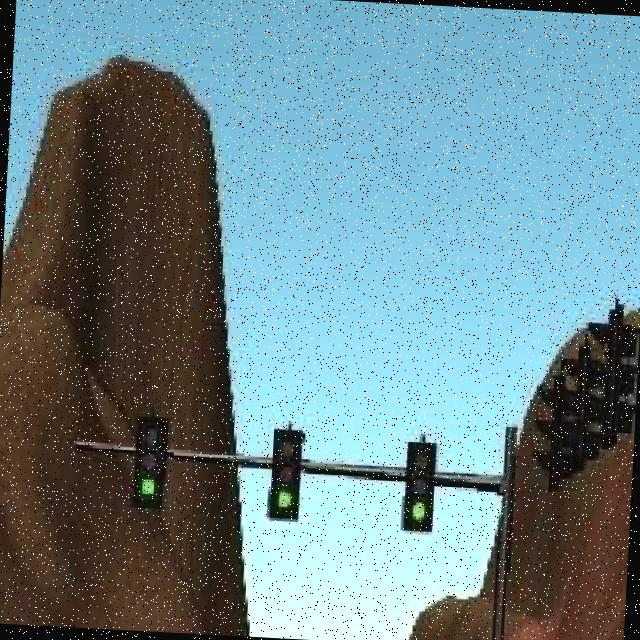Zielone swiatlo: (130, 414, 172, 511), (270, 426, 304, 522), (404, 442, 436, 532)
